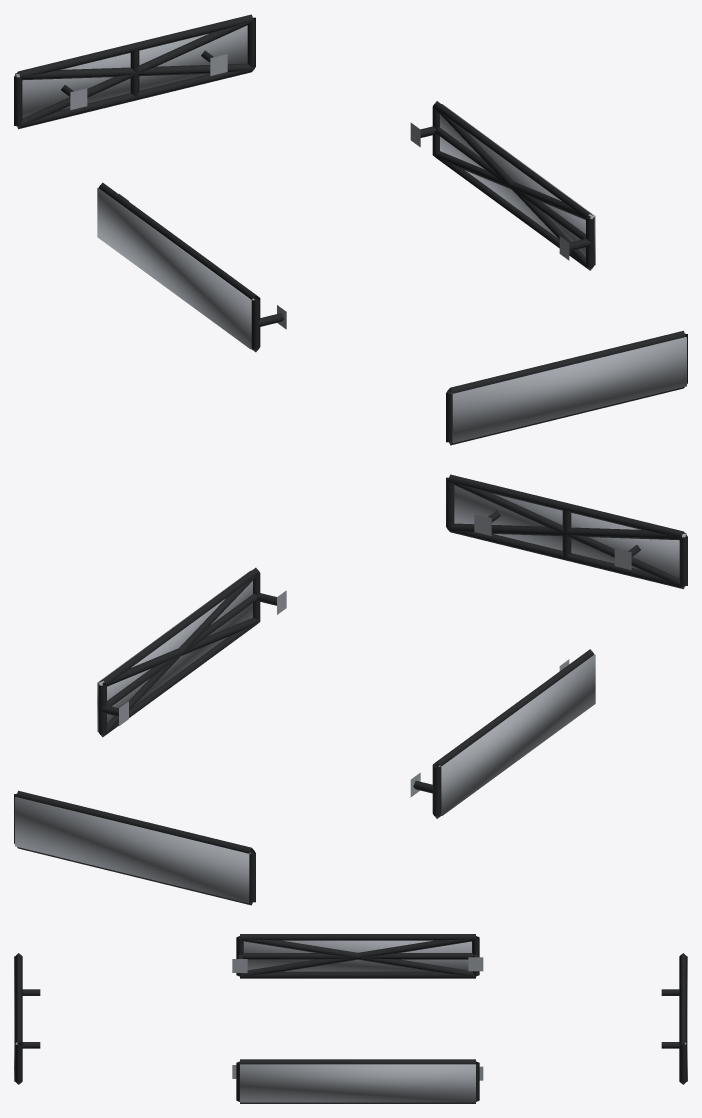
File: wexmoor_escarpa_protecao.glb
The picture shows the model from 3 angles, top to bottom: view 1: azimuth 30°, elevation 25°; view 2: azimuth 150°, elevation 25°; view 3: azimuth 270°, elevation 25°; orthographic projection. The views are drawn at different scales.
Parts seen in each view (by area): view 1: Protection_front_Level3_Details, Protection_left_Level3_Details, Protection_rear_Level1_Details, Protection_rear_Level3_Details, Protection_right_Level1_Details, Protection_rear_Level2_Details, Protection_right_Level2_Details, Protection_right_Level3_Details, Protection_front_Level1_Details, Protection_left_Level1_Details; view 2: Protection_rear_Level3_Details, Protection_left_Level3_Details, Protection_front_Level1_Details, Protection_front_Level3_Details, Protection_right_Level1_Details, Protection_front_Level2_Details, Protection_right_Level2_Details, Protection_right_Level3_Details, Protection_rear_Level1_Details, Protection_left_Level1_Details; view 3: Protection_right_Level3_Details, Protection_left_Level2_Details, Protection_left_Level1_Details, Protection_left_Level3_Details, Protection_right_Level1_Details, Protection_rear_Level1_Details, Protection_front_Level1_Details.
Part boxes in pixels (x1,y1,x2,y2): Protection_front_Level3_Details: (451,337,686,443); Protection_left_Level3_Details: (97,188,254,349); Protection_rear_Level1_Details: (14,14,255,129); Protection_rear_Level3_Details: (15,25,247,118); Protection_right_Level1_Details: (410,101,594,270); Protection_rear_Level2_Details: (16,21,253,128); Protection_right_Level2_Details: (433,107,593,270); Protection_right_Level3_Details: (440,104,595,265); Protection_front_Level1_Details: (446,330,687,445); Protection_left_Level1_Details: (98,182,286,352); Protection_rear_Level3_Details: (15,797,250,903); Protection_left_Level3_Details: (438,654,595,815); Protection_front_Level1_Details: (446,474,687,589); Protection_front_Level3_Details: (454,485,686,578); Protection_right_Level1_Details: (98,567,286,737); Protection_front_Level2_Details: (448,481,685,588); Protection_right_Level2_Details: (99,573,259,736); Protection_right_Level3_Details: (97,570,252,731); Protection_rear_Level1_Details: (14,790,255,905); Protection_left_Level1_Details: (410,649,594,818); Protection_right_Level3_Details: (240,1064,475,1102); Protection_left_Level2_Details: (239,937,476,976); Protection_left_Level1_Details: (232,934,483,978); Protection_left_Level3_Details: (243,940,471,971); Protection_right_Level1_Details: (232,1059,483,1103); Protection_rear_Level1_Details: (661,953,686,1084); Protection_front_Level1_Details: (15,953,40,1084).
Size of the model in its own units: 2.21 by 0.354 by 4.86.
Materials: 1 (1 with a texture image).
